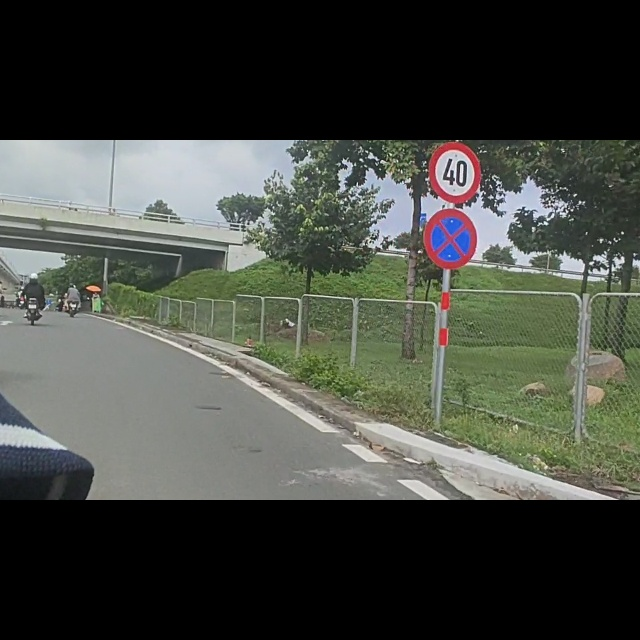bien_cam: (423, 122, 479, 231), (430, 4, 481, 114)
